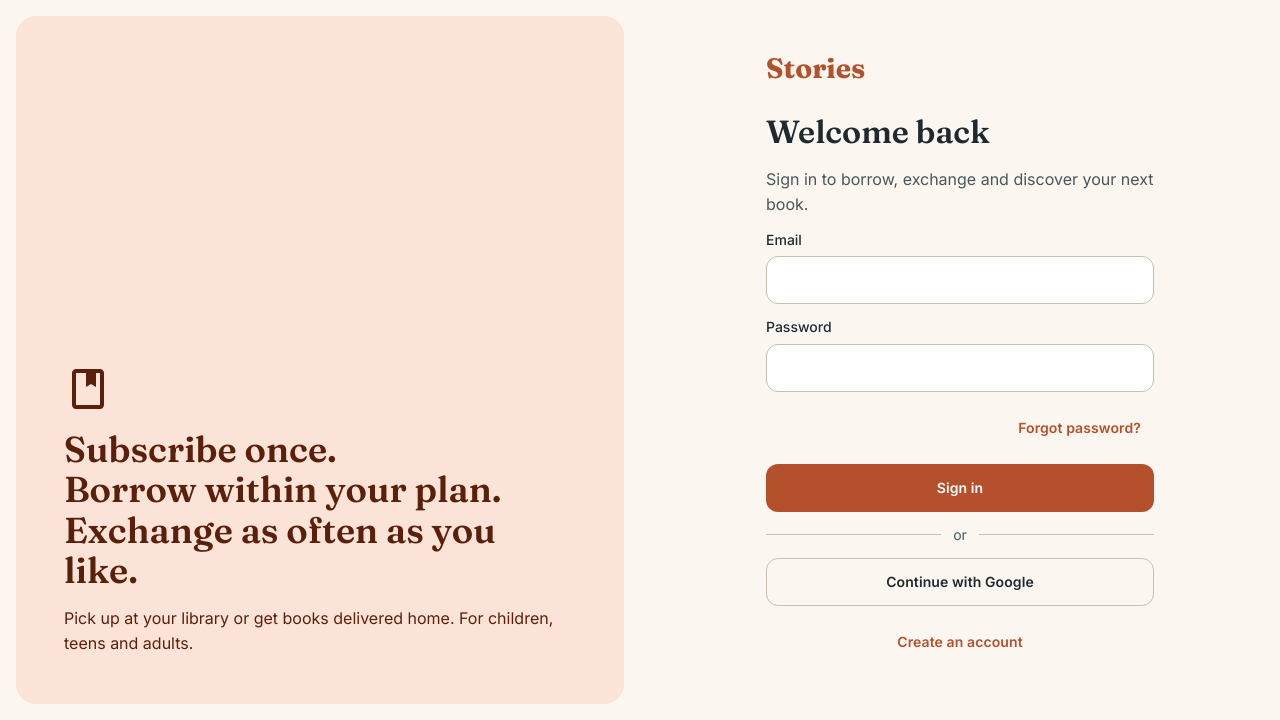
app flow › validates fields and shows friendly auth errors
This screenshot has width=1280, height=720.
Click the button "Sign in": [960, 488] box [766,464,1154,512]
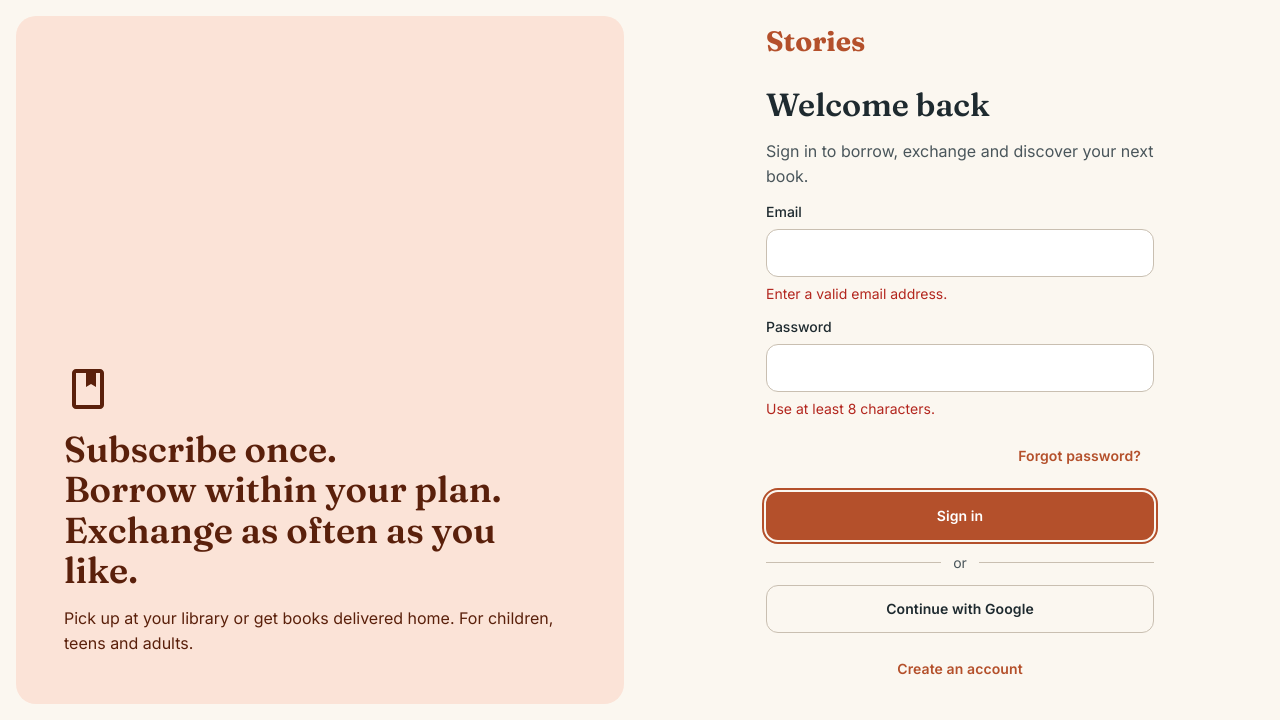
Now the text "Enter a valid email address." is shown, box [766,285,947,302]
Now the text "Use at least 8 characters." is shown, box [766,400,935,417]
In the field labelled "Email": [960, 253] box [766,229,1154,277], type "reader@example.com"
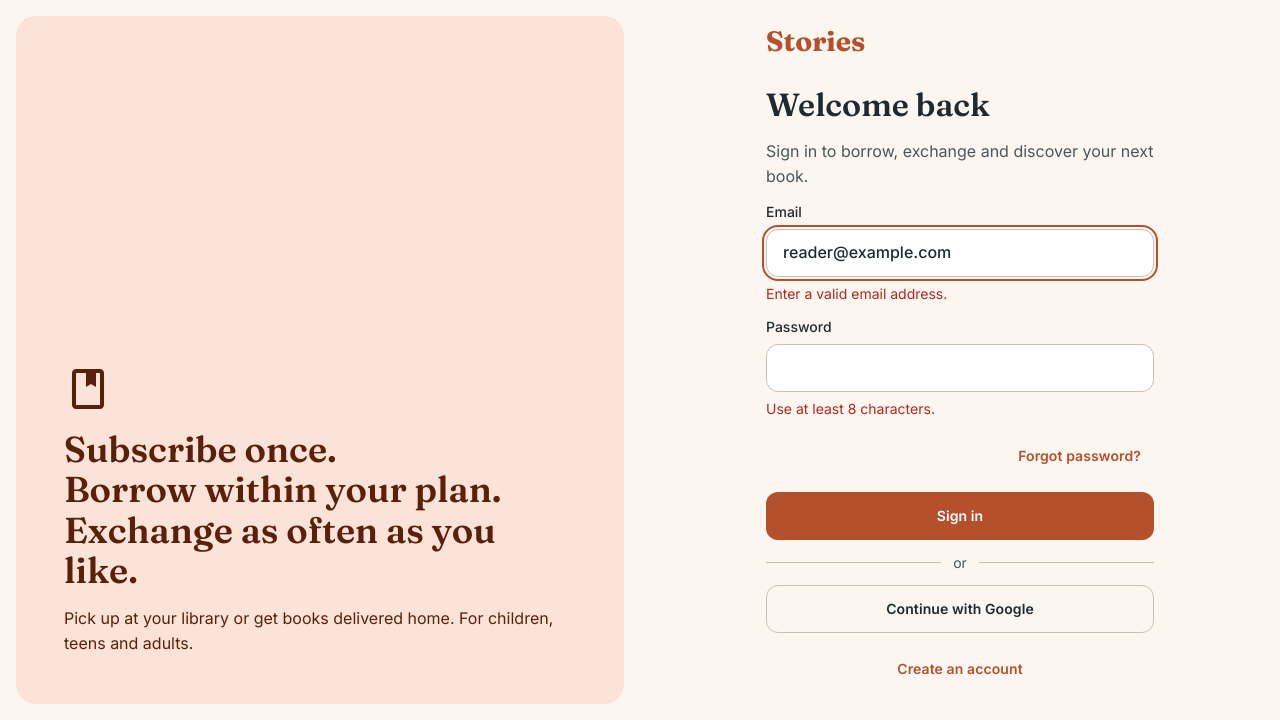
In the password field labelled "Password": [960, 368] box [766,344,1154,392], type "wrong-password"
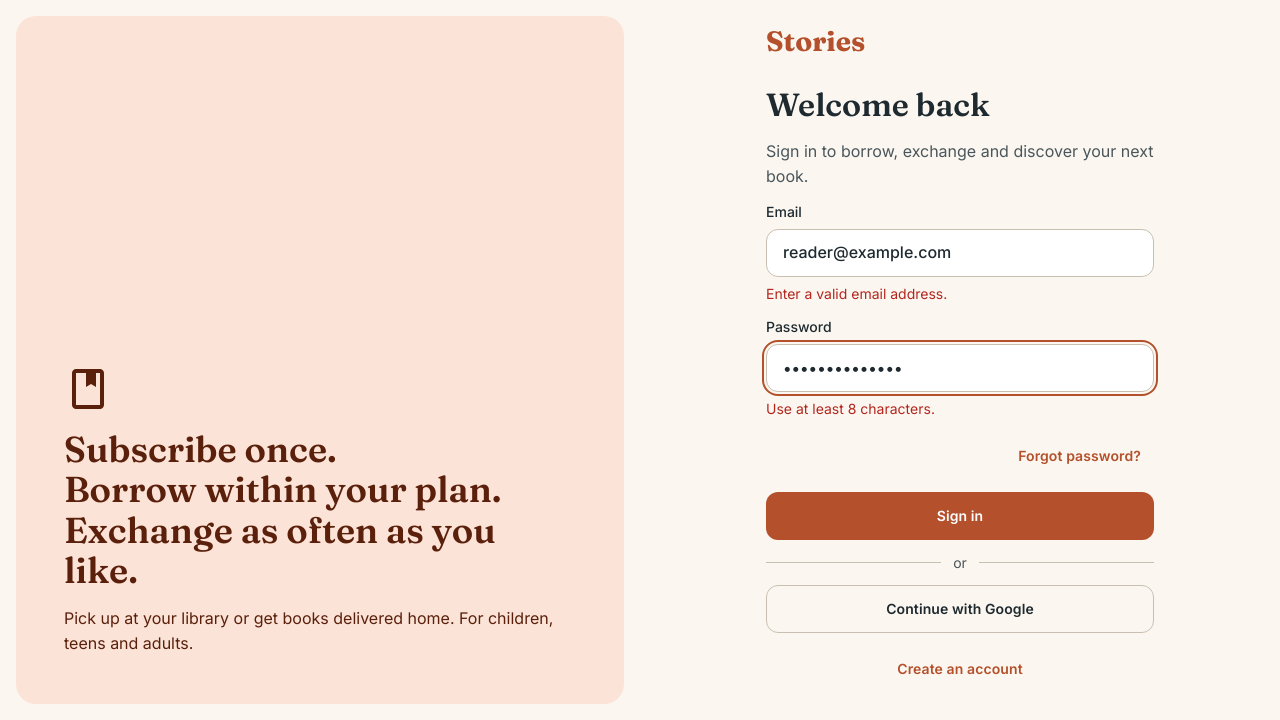
Click the button "Sign in": [960, 516] box [766,492,1154,540]
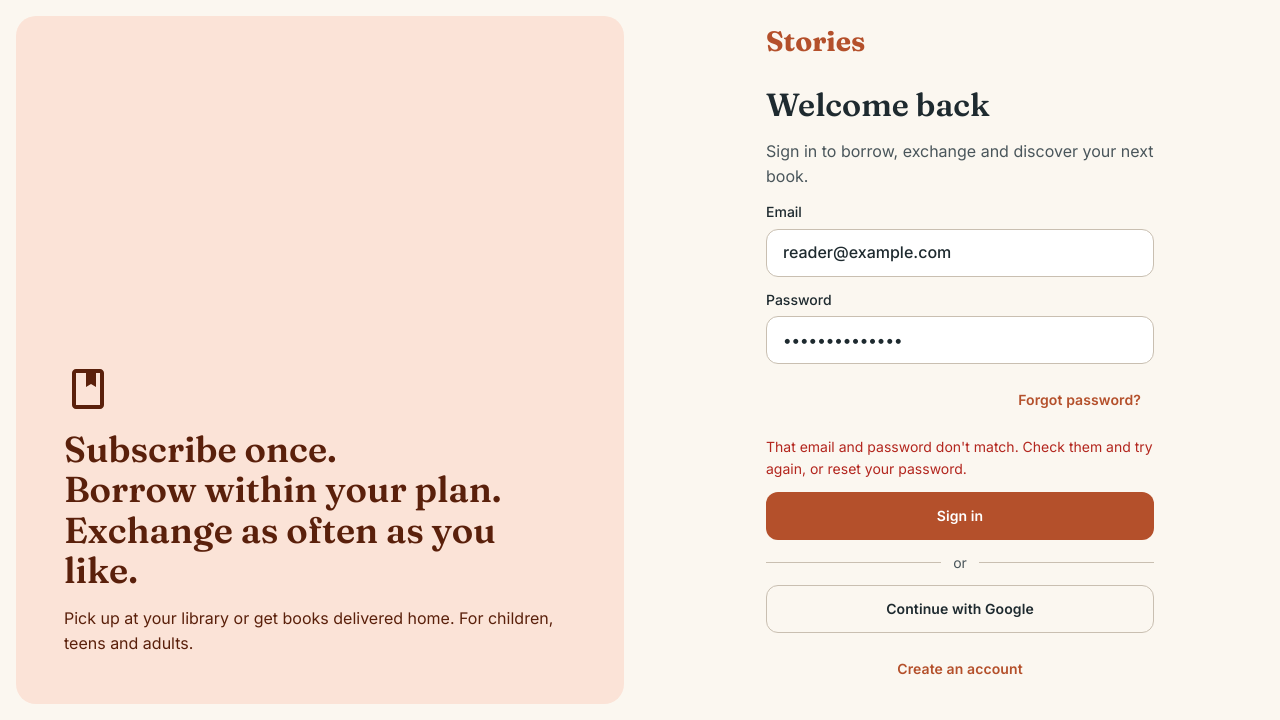
Now the message shows "That email and password don't match. Check them and try again, or reset your password.", box [766,438,1153,477]
